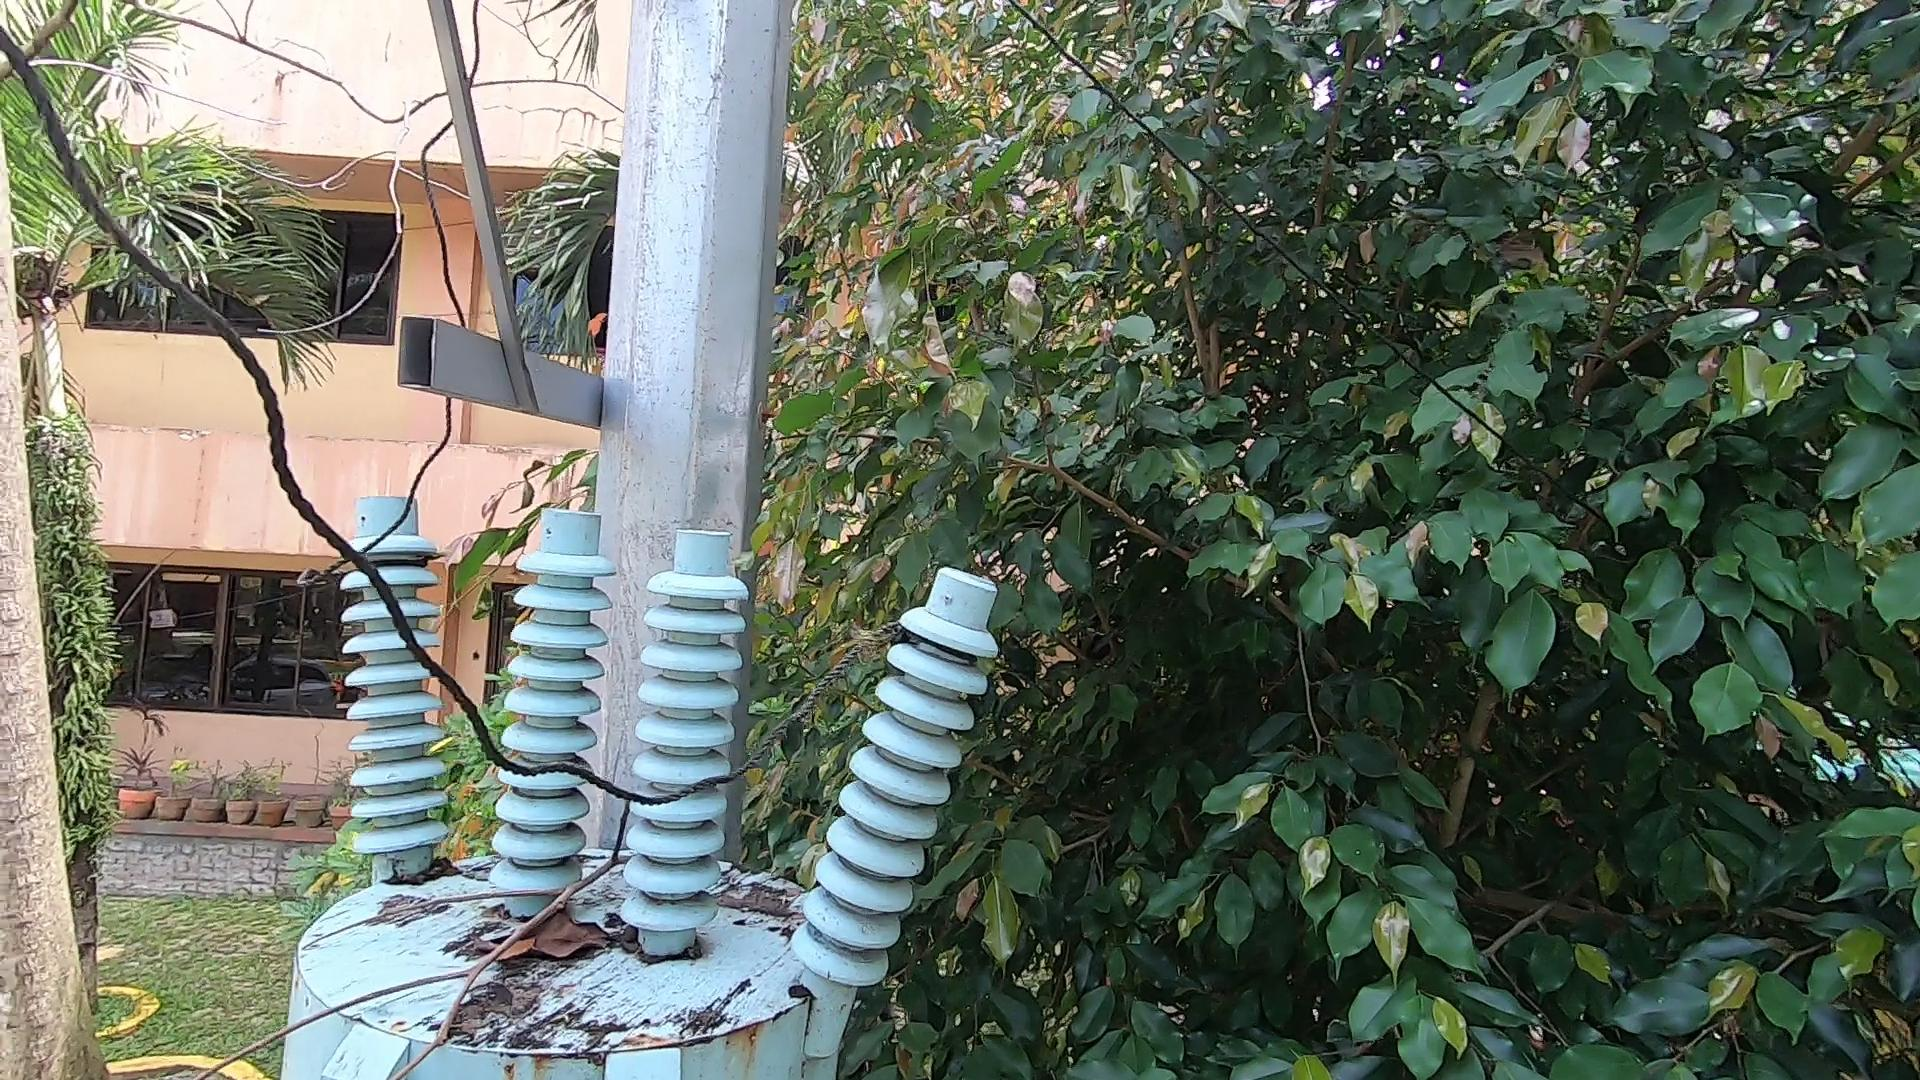leaf: (477, 903, 622, 967), (713, 858, 793, 932), (372, 852, 469, 895)
tree branch: (160, 839, 673, 1080)
